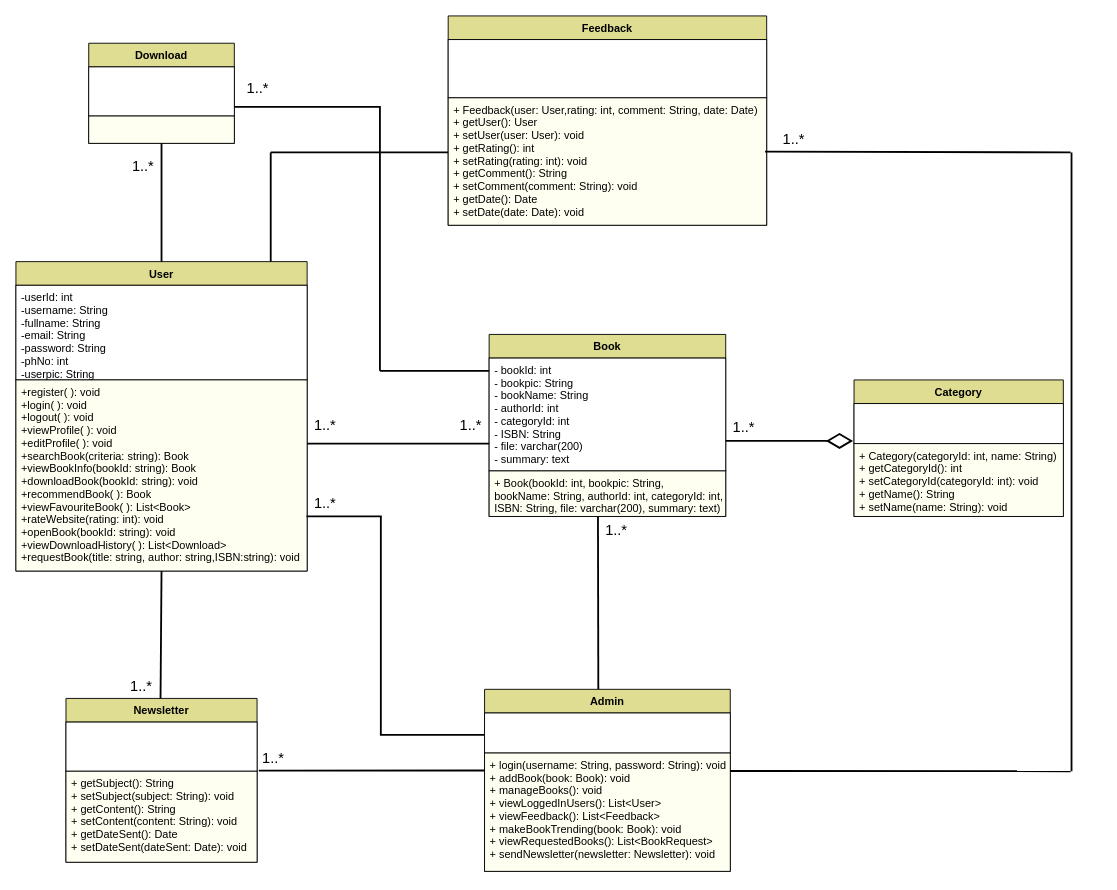
This 1117x890 diagram has some shape labels left out. Here are the shapes that lost their labels. From the top down, the centre of each, then its label:
At (607,68): "- userId: int - rating: int - comment: String - date: Date".
At (161,91): "- downloadId: int - bookId: int - downloadDate: DateTime".
At (161,129): "+ trackDownload()".
At (958,423): "-categoryId: int -categoryname: String".
At (161,746): "- subject: String - content: String - dateSent: Date".
At (607,732): "- username: String - password: String".
